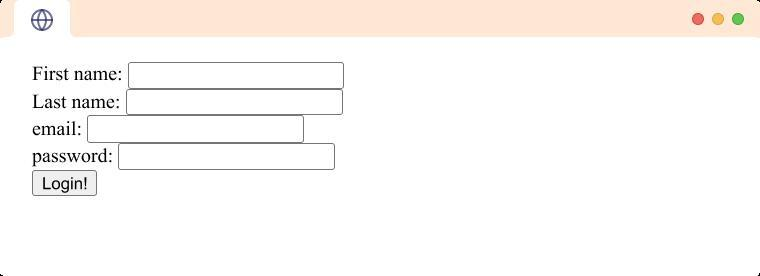button: (33, 172, 98, 197)
icon: (28, 7, 59, 34)
input: (89, 116, 305, 144), (118, 144, 335, 170), (129, 64, 344, 90), (126, 91, 344, 115)
label: (32, 65, 123, 85), (32, 148, 115, 167), (32, 94, 121, 111), (31, 121, 82, 138)
